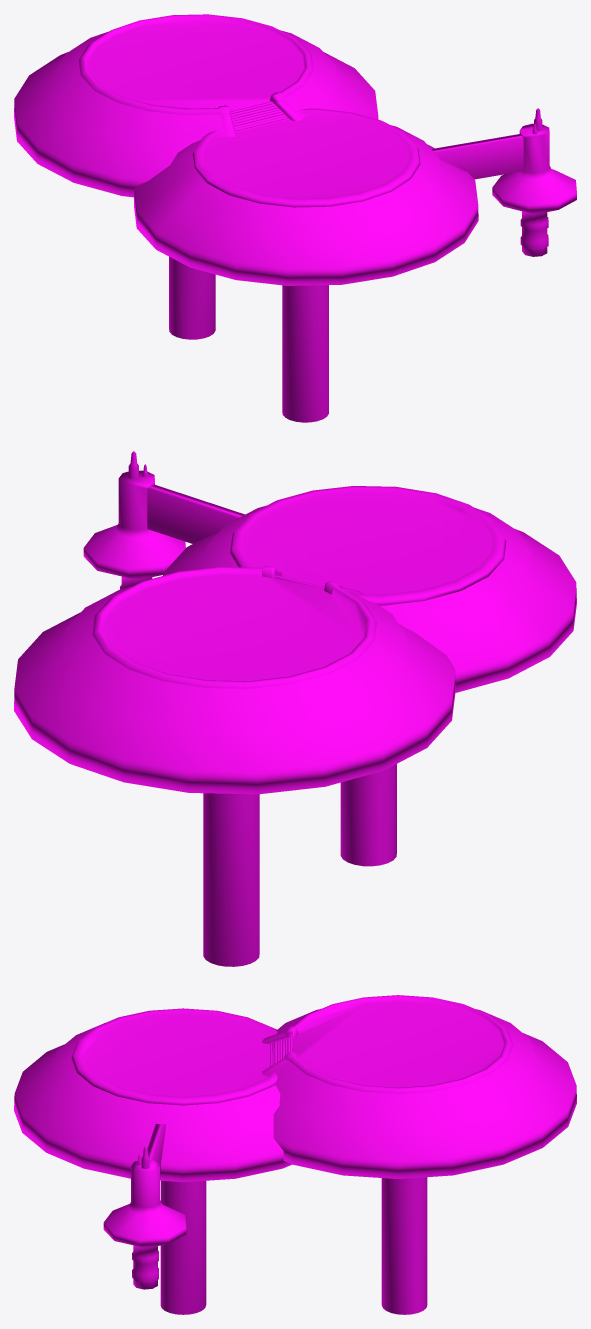
The picture shows the model from 3 angles, top to bottom: view 1: azimuth 30°, elevation 25°; view 2: azimuth 150°, elevation 25°; view 3: azimuth 270°, elevation 25°; orthographic projection. The views are drawn at different scales.
Visible parts, largest first — view 1: polySurface12144, polySurface12145, polySurface12146, polySurface12125, polySurface12128, polySurface12147, polySurface12148; view 2: polySurface12144, polySurface12146, polySurface12145, polySurface12147, polySurface12125, polySurface12128; view 3: polySurface12144, polySurface12145, polySurface12146, polySurface12147, polySurface12125, polySurface12128, polySurface12148.
Boxes of the visible parts, x1,y1,x2,y2 form: polySurface12144: (14, 14, 378, 197); polySurface12145: (134, 125, 478, 285); polySurface12146: (192, 108, 420, 207); polySurface12125: (431, 123, 576, 256); polySurface12128: (282, 285, 328, 422); polySurface12147: (169, 256, 215, 339); polySurface12148: (230, 101, 288, 132); polySurface12144: (14, 566, 455, 794); polySurface12146: (230, 486, 506, 605); polySurface12145: (163, 506, 576, 692); polySurface12147: (203, 793, 259, 966); polySurface12125: (83, 470, 244, 589); polySurface12128: (340, 764, 396, 866); polySurface12144: (262, 995, 576, 1178); polySurface12145: (14, 1023, 291, 1182); polySurface12146: (71, 1008, 277, 1105); polySurface12147: (381, 1177, 427, 1314); polySurface12125: (103, 1123, 186, 1289); polySurface12128: (160, 1180, 206, 1314); polySurface12148: (270, 1036, 292, 1066).
Bounding box in the file's own units: 262 × 167 × 322.
